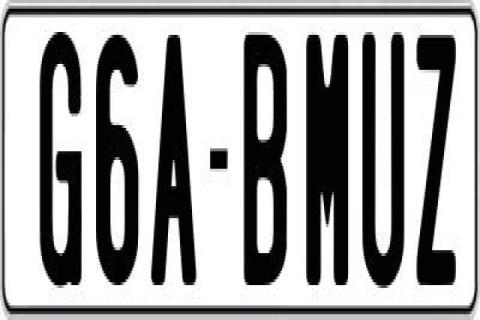0: (92, 29, 140, 297)
A: (149, 32, 201, 294)
B: (241, 32, 290, 294)
G: (40, 32, 88, 285)
M: (302, 32, 348, 296)
U: (362, 32, 406, 302)
Z: (416, 26, 456, 291)
